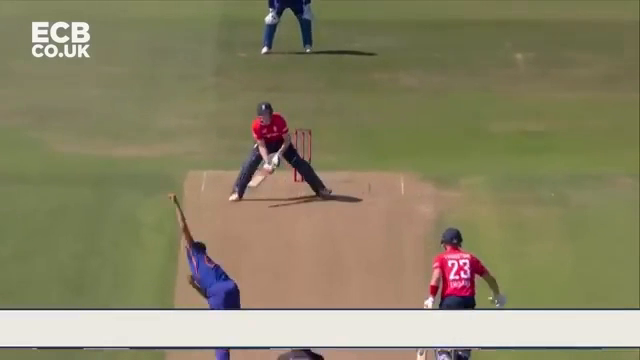Bowler: (167, 192, 243, 308)
batsman: (230, 101, 336, 201)
